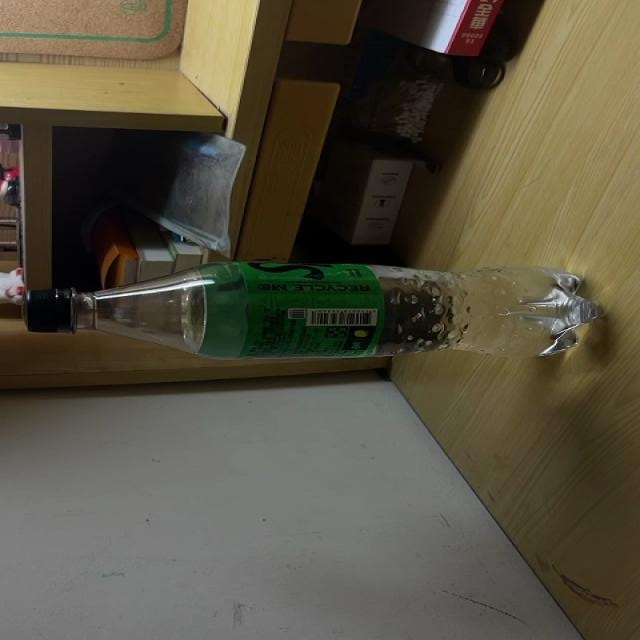Sprite: (22, 262, 603, 361)
